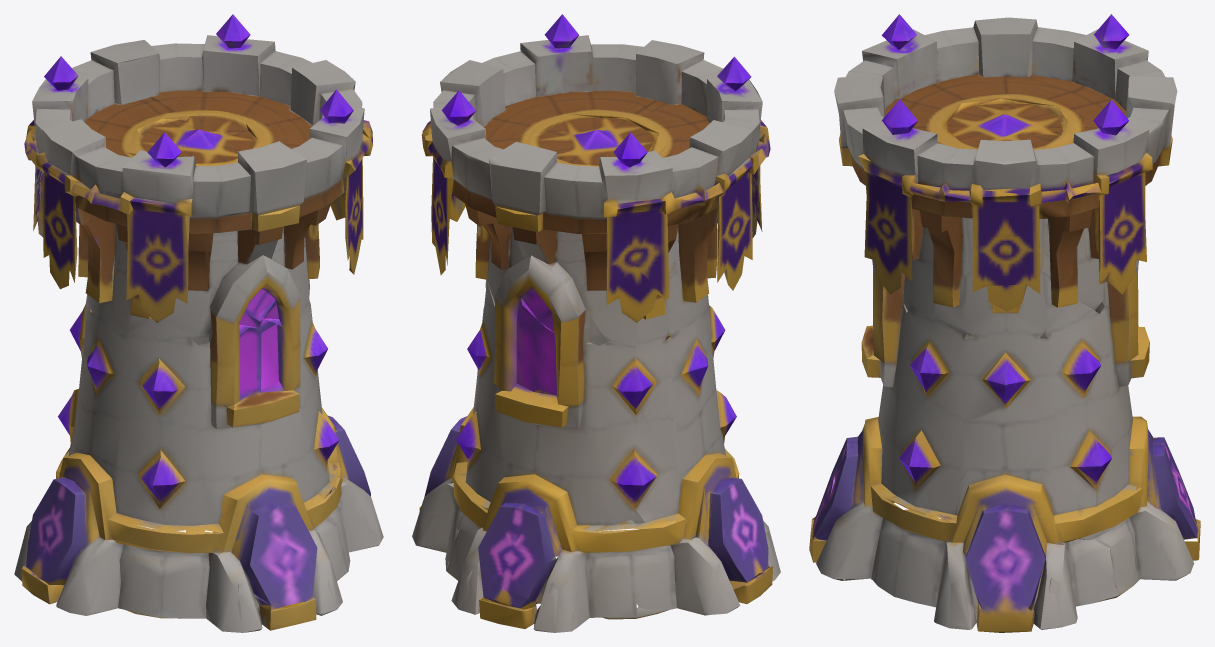
The model's file is mage_1.glb.
The picture shows the model from 3 angles, left to right: view 1: azimuth 30°, elevation 25°; view 2: azimuth 150°, elevation 25°; view 3: azimuth 270°, elevation 25°; orthographic projection. The views are drawn at different scales.
Parts seen in each view (by area): view 1: Body; view 2: Body; view 3: Body.
Boxes of the visible parts, bbox=[...] form: Body: bbox=[14, 14, 383, 632]; Body: bbox=[412, 14, 780, 632]; Body: bbox=[809, 14, 1200, 632].
Size of the model in its own units: 2.99 by 4.17 by 2.99.
1 material, 1 textured.
